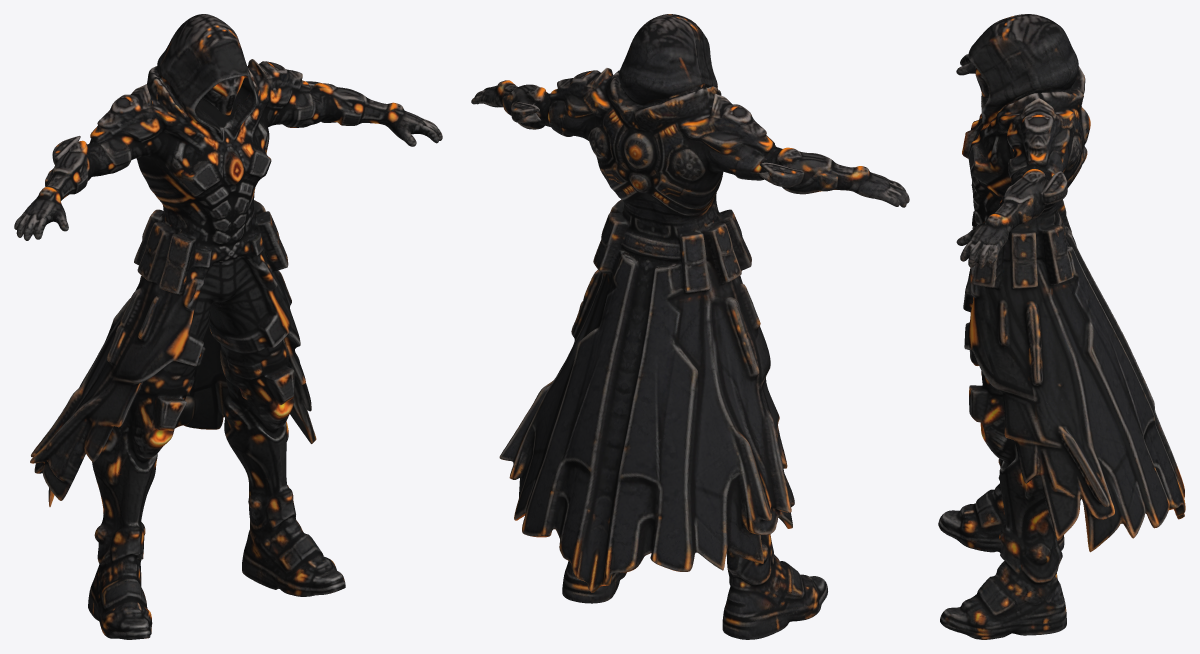
Rendered from Ficha de Referência da Armadura Orion - NIVEL 1  3D.glb.
3 views of the same model, side by side, from view 1: azimuth 30°, elevation 25°; view 2: azimuth 150°, elevation 25°; view 3: azimuth 270°, elevation 25° (orthographic). The views are drawn at different scales.
Size of the model in its own units: 1.45 by 1.9 by 0.735.
1 material, 1 textured.
